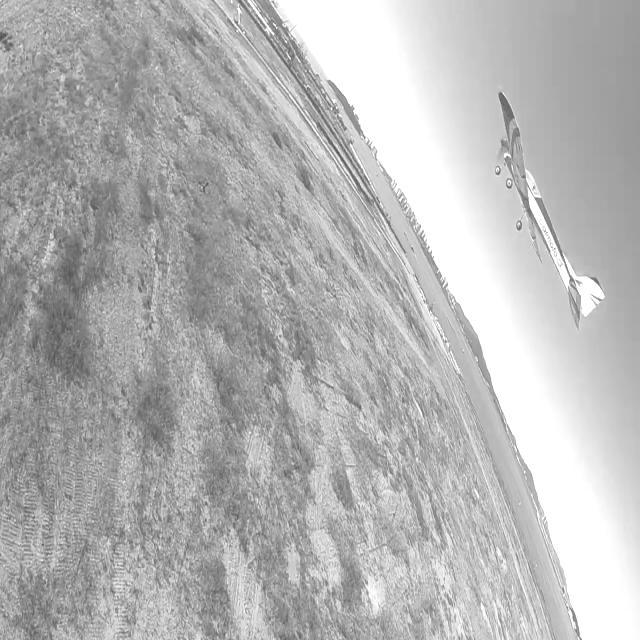iha: (518, 85, 580, 338)
